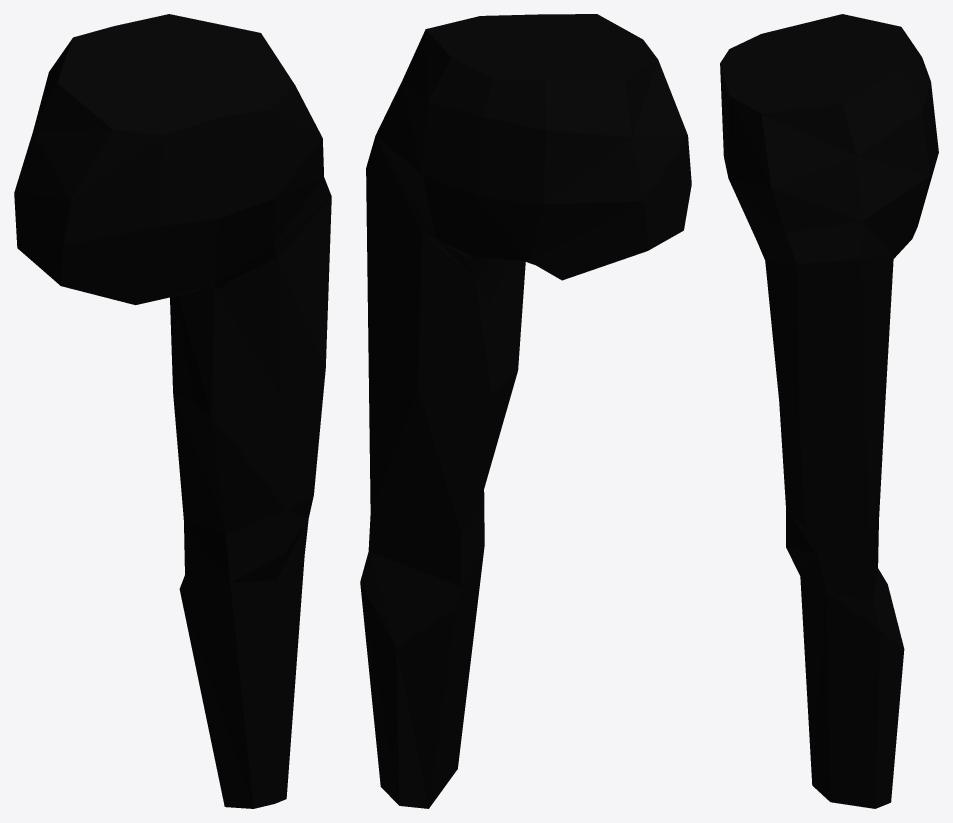
The model's file is pants.Miami.fbx.
3 views of the same model, side by side, from view 1: azimuth 30°, elevation 25°; view 2: azimuth 150°, elevation 25°; view 3: azimuth 270°, elevation 25° (orthographic). The views are drawn at different scales.
Visible parts, largest first — view 1: miami.pants; view 2: miami.pants; view 3: miami.pants.
Part boxes in pixels (x1=…): miami.pants: x1=14, y1=14, x2=331, y2=808; miami.pants: x1=360, y1=14, x2=691, y2=808; miami.pants: x1=720, y1=14, x2=938, y2=808.
Size of the model in its own units: 34.48 by 90.9 by 25.3.
